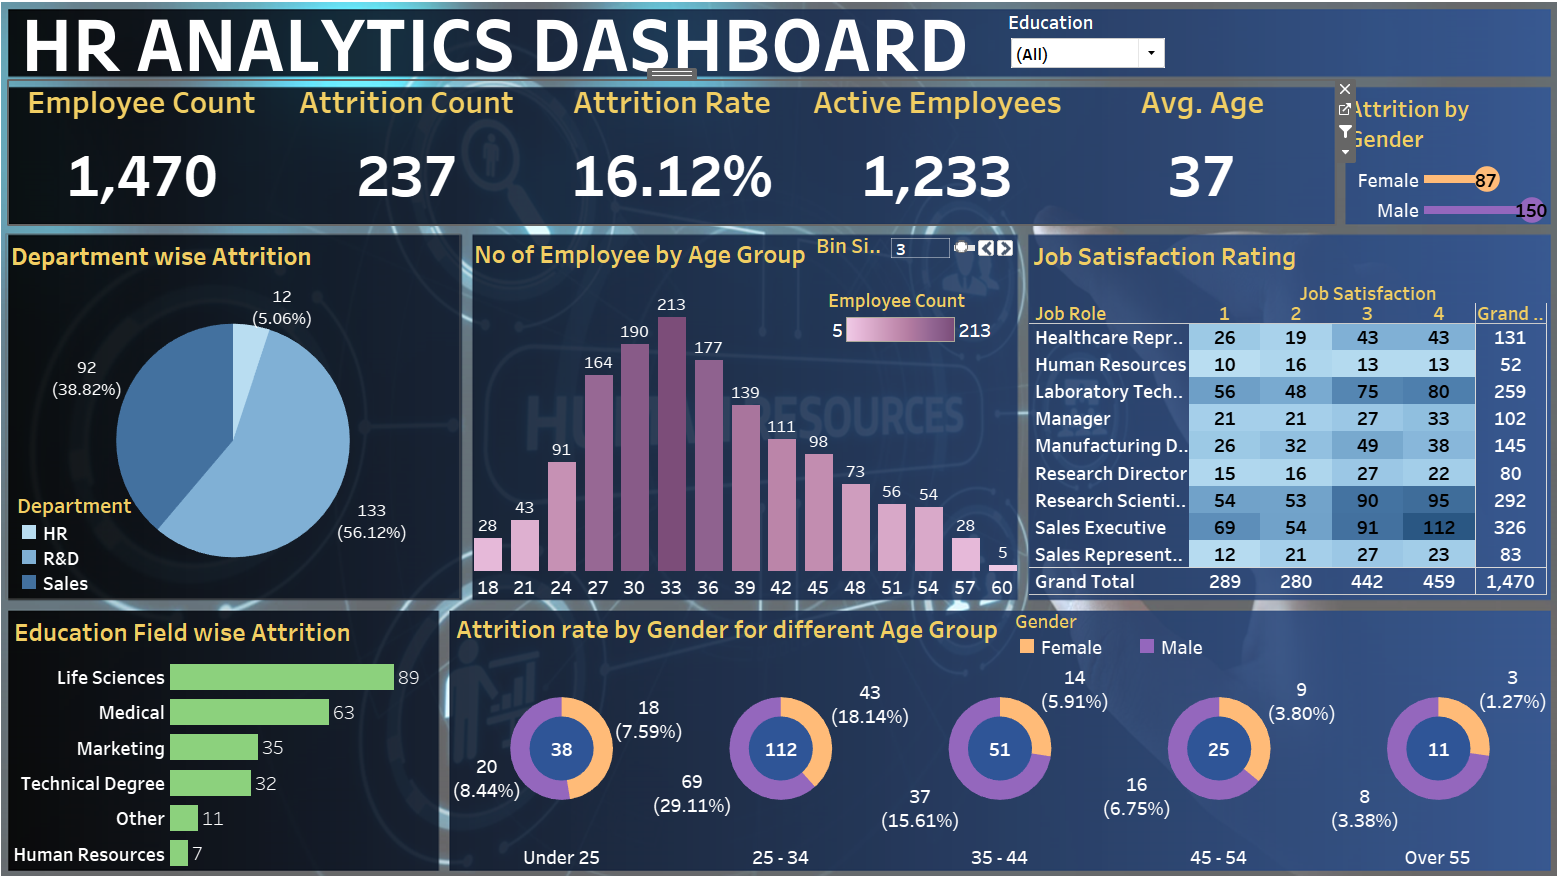

This screenshot's page, from the dashboard's own definition file:
{"tool":"tableau","page":{"name":"HR ANALYTICS DASHBOARD","canvas":[1580,900],"ordinal":0},"visuals":[{"type":"image","param":"Image/HR background.png","box":[8,8,1564,884]},{"type":"text","box":[28,18,1064,68]},{"type":"filter","title":"Attrition rate by Gender for different Age Group","param":"[federated.1uawnwd1wtlris1g4g9dy05y94lg].[none:Education:nk]","box":[1019,19,160,66]},{"type":"worksheet","title":"KPI","mark":"Automatic","box":[20,91,1326,143]},{"type":"worksheet","title":"Attrition by Gender","mark":"Automatic","rows":["Gender"],"cols":["Calculation_3135068303413256192","Calculation_3135068303413256192"],"box":[1355,99,207,136]},{"type":"worksheet","title":"No of Employee by Age Group","mark":"Automatic","rows":["Employee Count"],"cols":["Age (bin)"],"box":[481,243,551,367]},{"type":"worksheet","title":"Department wise Attrition","mark":"Pie","box":[18,245,452,363]},{"type":"parameter","param":"[Parameters].[Parameter 1]","box":[827,245,200,39]},{"type":"worksheet","title":"Job Satisfaction Rating","mark":"Square","rows":["Job Role"],"cols":["Job Satisfaction"],"box":[1040,245,518,360]},{"type":"legend","title":"No of Employee by Age Group","param":"[federated.1uawnwd1wtlris1g4g9dy05y94lg].[sum:Employee Count:qk]","box":[839,297,168,76]},{"type":"legend","title":"Department wise Attrition","param":"[federated.1uawnwd1wtlris1g4g9dy05y94lg].[none:Department:nk]","box":[28,501,125,108]},{"type":"worksheet","title":"Attrition rate by Gender for different Age Group","mark":"Pie","rows":["Calculation_114278853697798145","Calculation_114278853697798145"],"cols":["CF_age band"],"box":[463,618,1096,262]},{"type":"legend","title":"Attrition rate by Gender for different Age Group","param":"[federated.1uawnwd1wtlris1g4g9dy05y94lg].[none:Gender:nk]","box":[1026,618,534,61]},{"type":"worksheet","title":"Education Field wise Attrition","mark":"Automatic","rows":["Education Field"],"cols":["Calculation_3135068303413256192"],"box":[21,621,427,260]}]}

Visuals, with their boxes in screenshot pixels (x1, y1, x2, y2), scaled from the page's 1580x900 canvas onto the 1558x877 screenshot:
image: l=8, t=8, r=1550, b=869
text: l=28, t=18, r=1077, b=84
"Attrition rate by Gender for different Age Group" filter: l=1005, t=19, r=1163, b=83
"KPI" worksheet: l=20, t=89, r=1327, b=228
"Attrition by Gender" worksheet: l=1336, t=96, r=1540, b=229
"No of Employee by Age Group" worksheet: l=474, t=237, r=1018, b=594
"Department wise Attrition" worksheet (Pie marks): l=18, t=239, r=463, b=592
parameter: l=815, t=239, r=1013, b=277
"Job Satisfaction Rating" worksheet (Square marks): l=1026, t=239, r=1536, b=590
"No of Employee by Age Group" legend: l=827, t=289, r=993, b=363
"Department wise Attrition" legend: l=28, t=488, r=151, b=593
"Attrition rate by Gender for different Age Group" worksheet (Pie marks): l=457, t=602, r=1537, b=858
"Attrition rate by Gender for different Age Group" legend: l=1012, t=602, r=1538, b=662
"Education Field wise Attrition" worksheet: l=21, t=605, r=442, b=858
